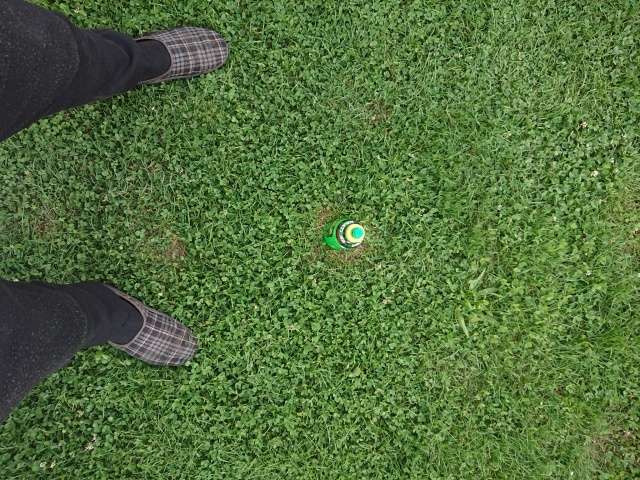Vindi Iso Sport Lemon-Grapefruit 500mL: (321, 216, 367, 253)
